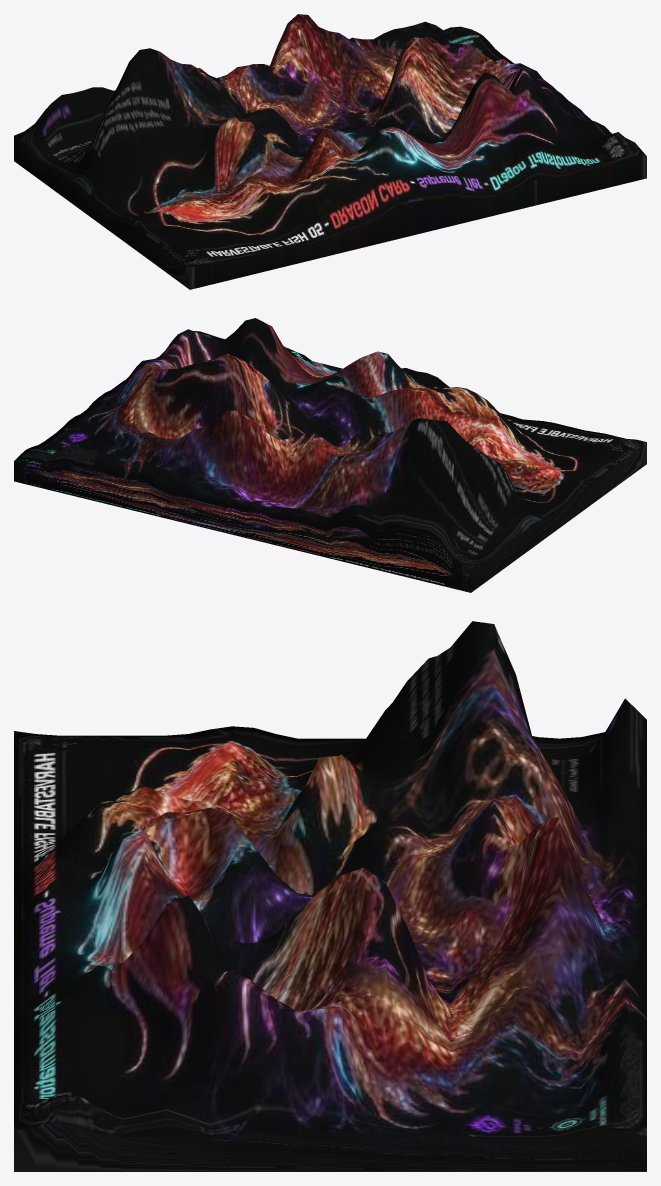
Rendered from FISH_05_Dragon_Carp.glb.
3 renders of one model, top to bottom at view 1: azimuth 30°, elevation 25°; view 2: azimuth 150°, elevation 25°; view 3: azimuth 270°, elevation 25°, orthographic. The views are drawn at different scales.
Visible parts, largest first — view 1: FISH_05_Dragon_Carp; view 2: FISH_05_Dragon_Carp; view 3: FISH_05_Dragon_Carp.
Boxes of the visible parts, box(x1,y1,x2,y2) form: FISH_05_Dragon_Carp: box(14, 14, 646, 289); FISH_05_Dragon_Carp: box(14, 318, 646, 592); FISH_05_Dragon_Carp: box(14, 621, 646, 1171).
Size of the model in its own units: 2 by 0.51 by 1.33.
1 material, 1 textured.
